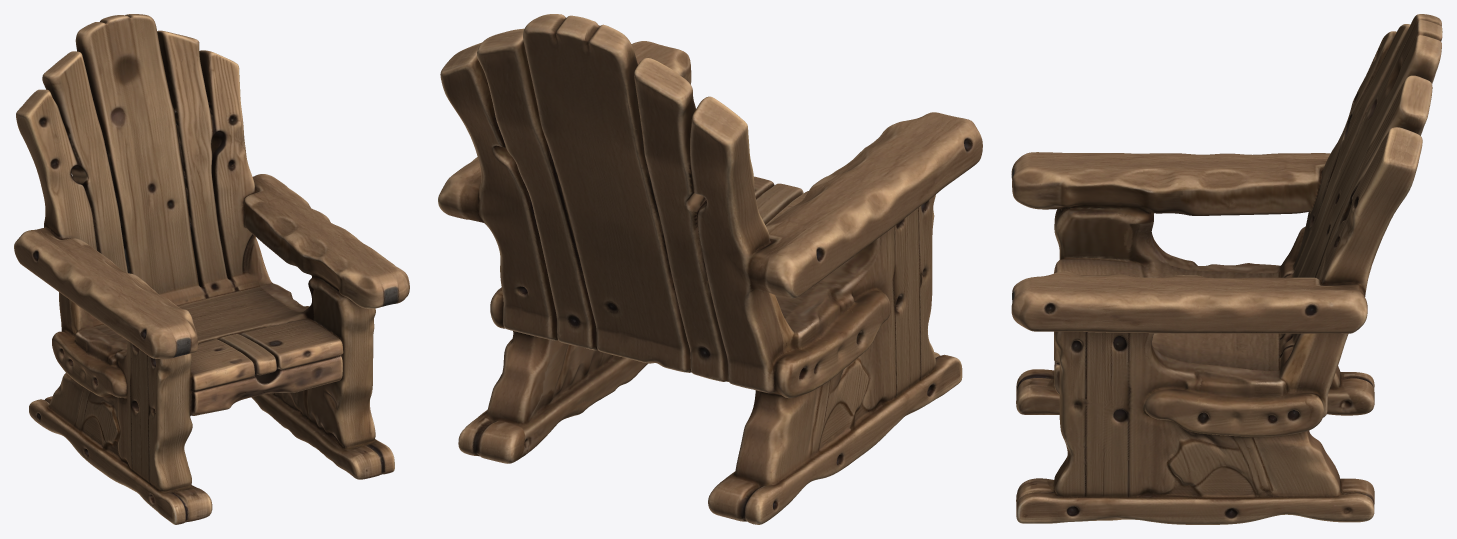
File: Rustic_Wooden_Armchai.glb
3 renders of one model, left to right at view 1: azimuth 30°, elevation 25°; view 2: azimuth 150°, elevation 25°; view 3: azimuth 270°, elevation 25°, orthographic. The views are drawn at different scales.
Size of the model in its own units: 1.42 by 1.9 by 1.69.
Materials: 1 (1 with a texture image).
